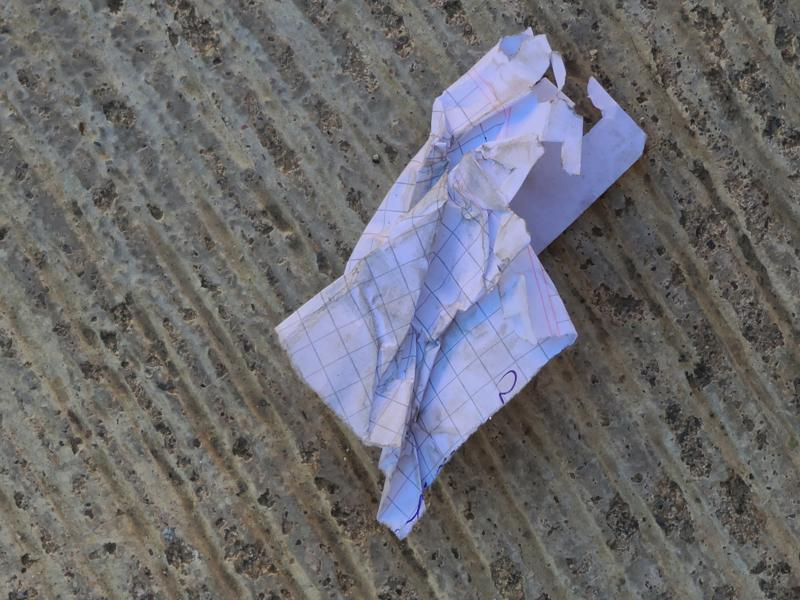papel: (273, 29, 648, 540)
